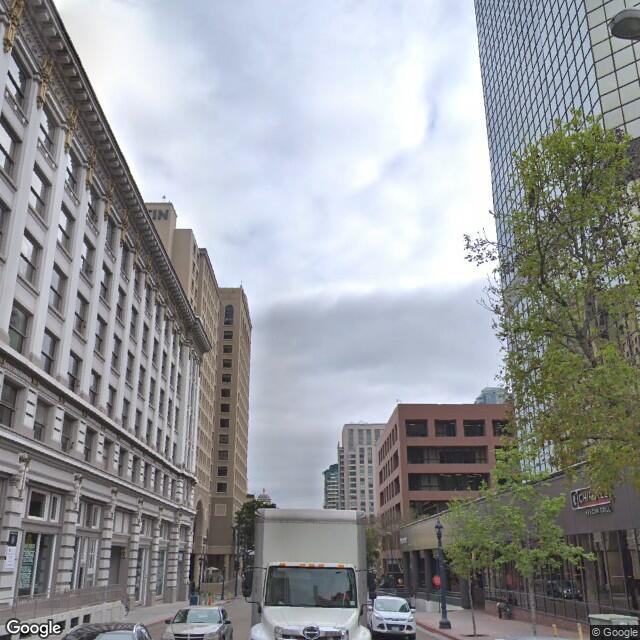window: (22, 233, 43, 290), (64, 347, 82, 389), (75, 286, 90, 334), (62, 412, 75, 454), (404, 416, 429, 436)
